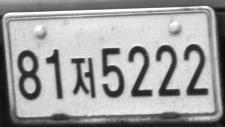1: (43, 48, 70, 100)
2: (154, 43, 181, 96), (127, 44, 153, 98), (183, 42, 209, 96)
5: (100, 47, 125, 98)
8: (15, 49, 42, 101)
저: (70, 57, 96, 97)
